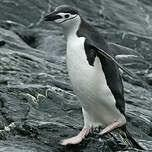chinstrap: (35, 1, 147, 139)
